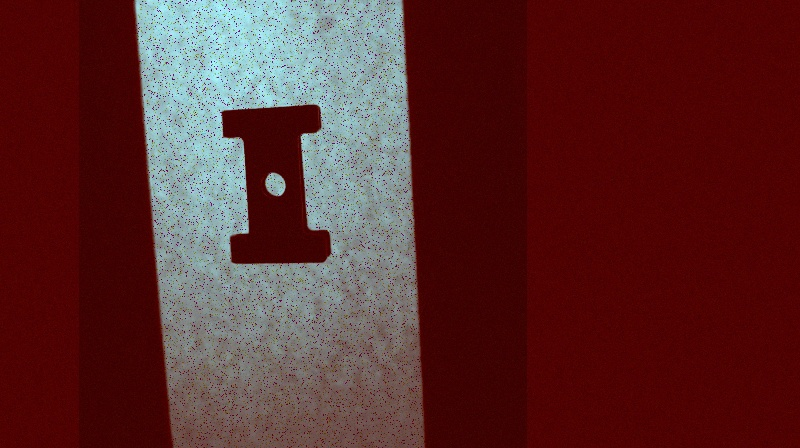O002: (218, 100, 337, 269)
